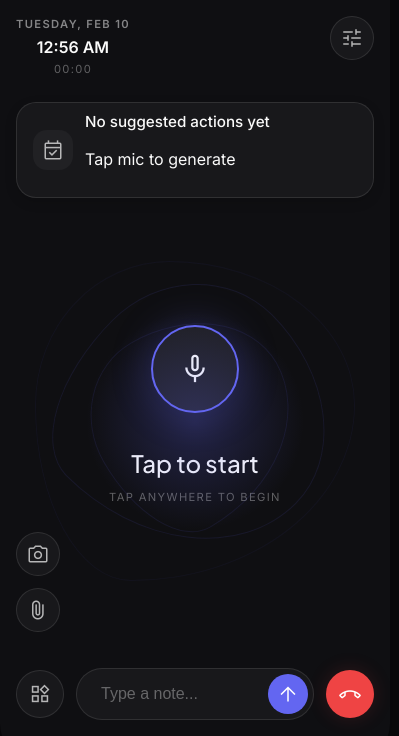
it: Chat action bar remaining count › shows one action at a time and a remaining badge for the rest
Click the button named "Microphone" at (195, 369), box [151,325,239,413]
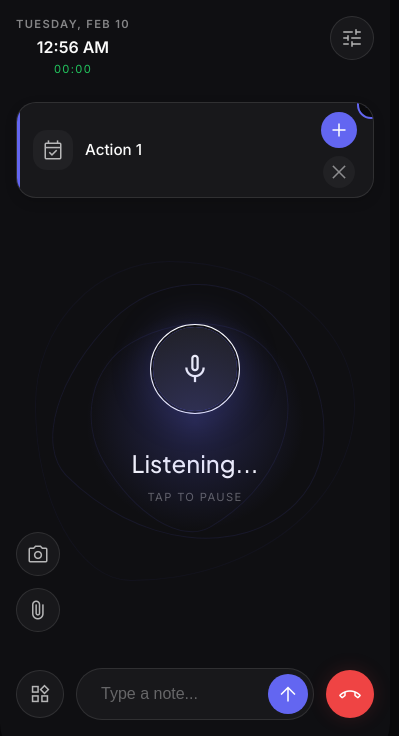
Now the text "Action 1" is shown, box [85,140,142,160]
